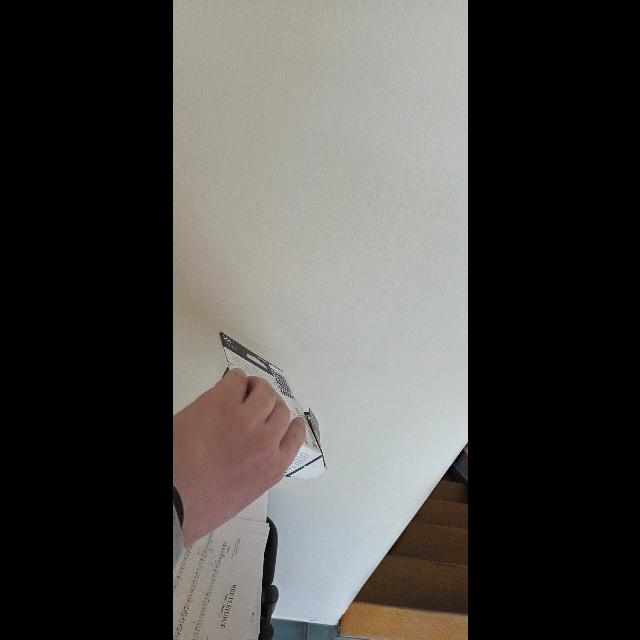Cardboard: (214, 332, 328, 486)
